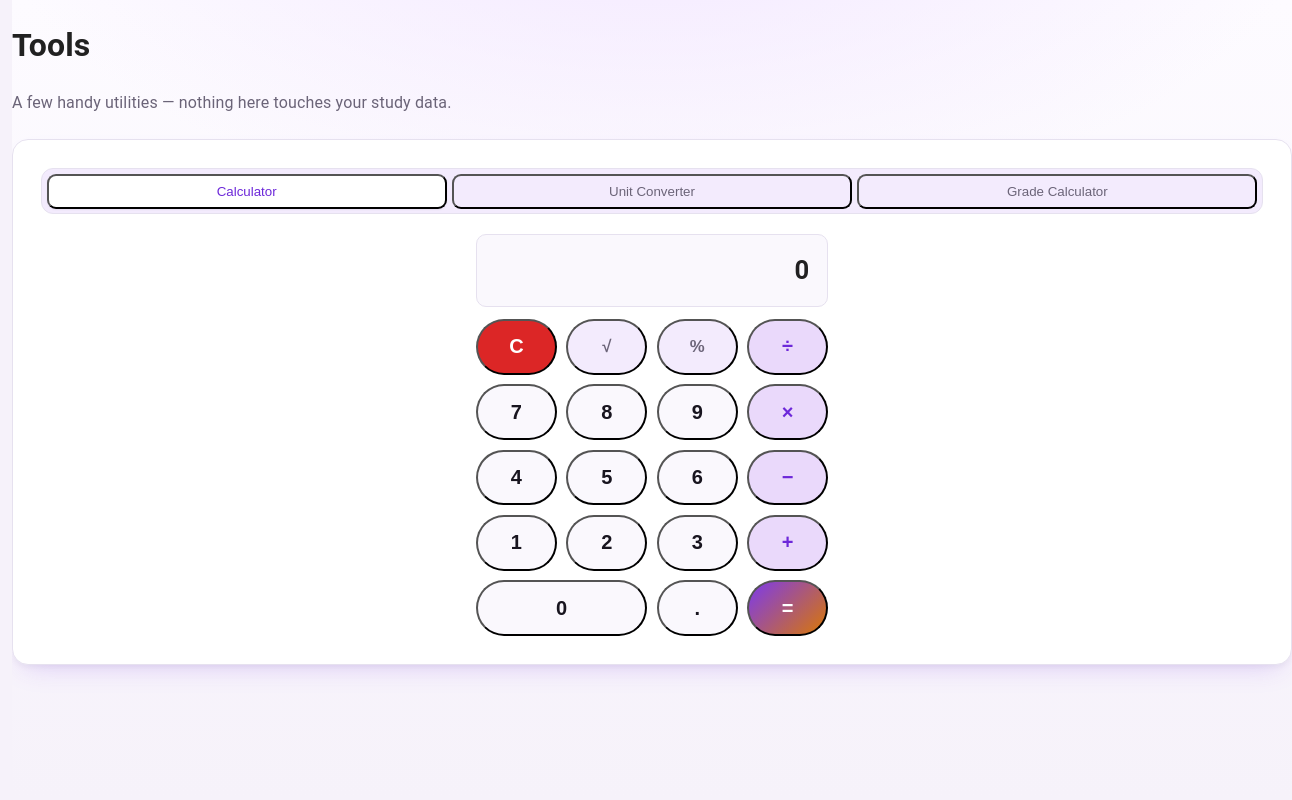
Test: ToolsPage › grade calculator: computes a weighted average across rows
The image size is (1292, 800).
Step 1. Click the tab "Grade Calculator" → (1057, 191), box [858,174,1257,209]
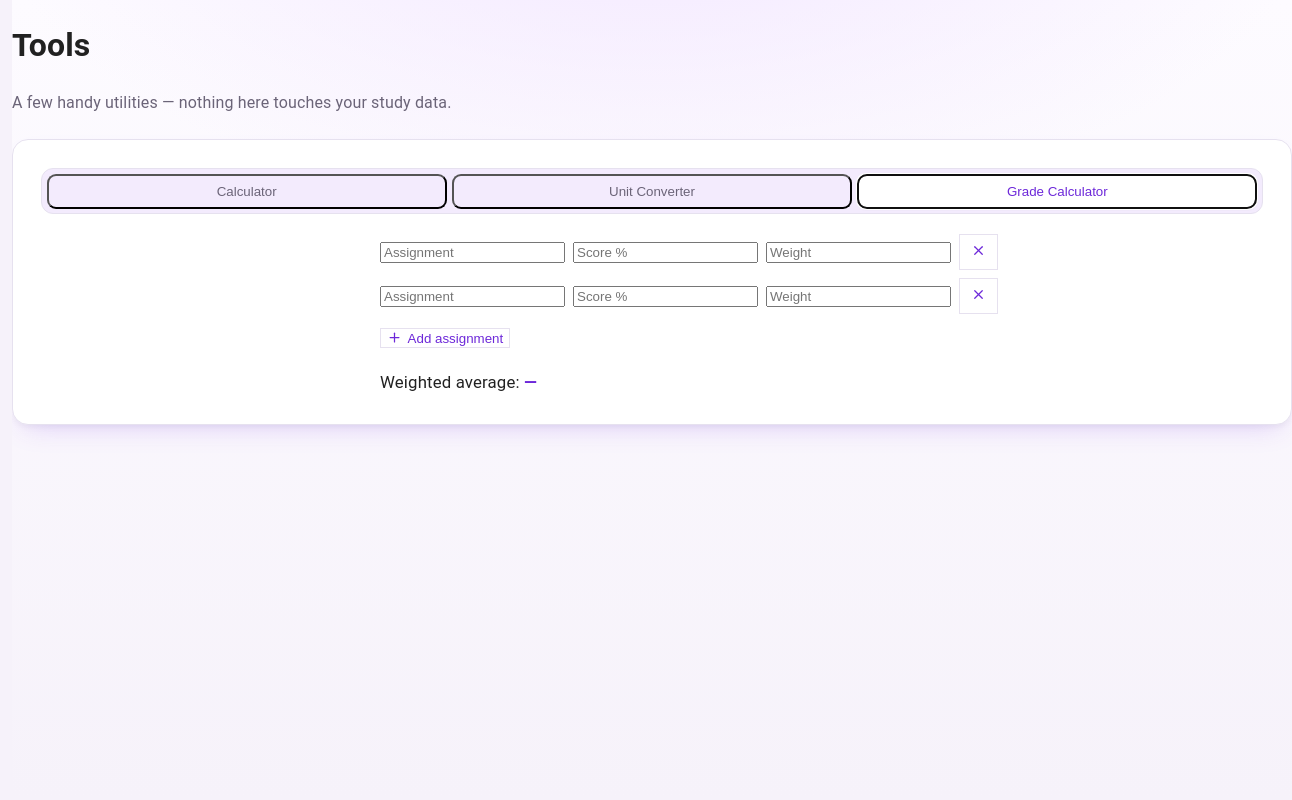
Step 2. Type "90" into the number field named "Score percent" → (666, 252), box [573,242,758,263]
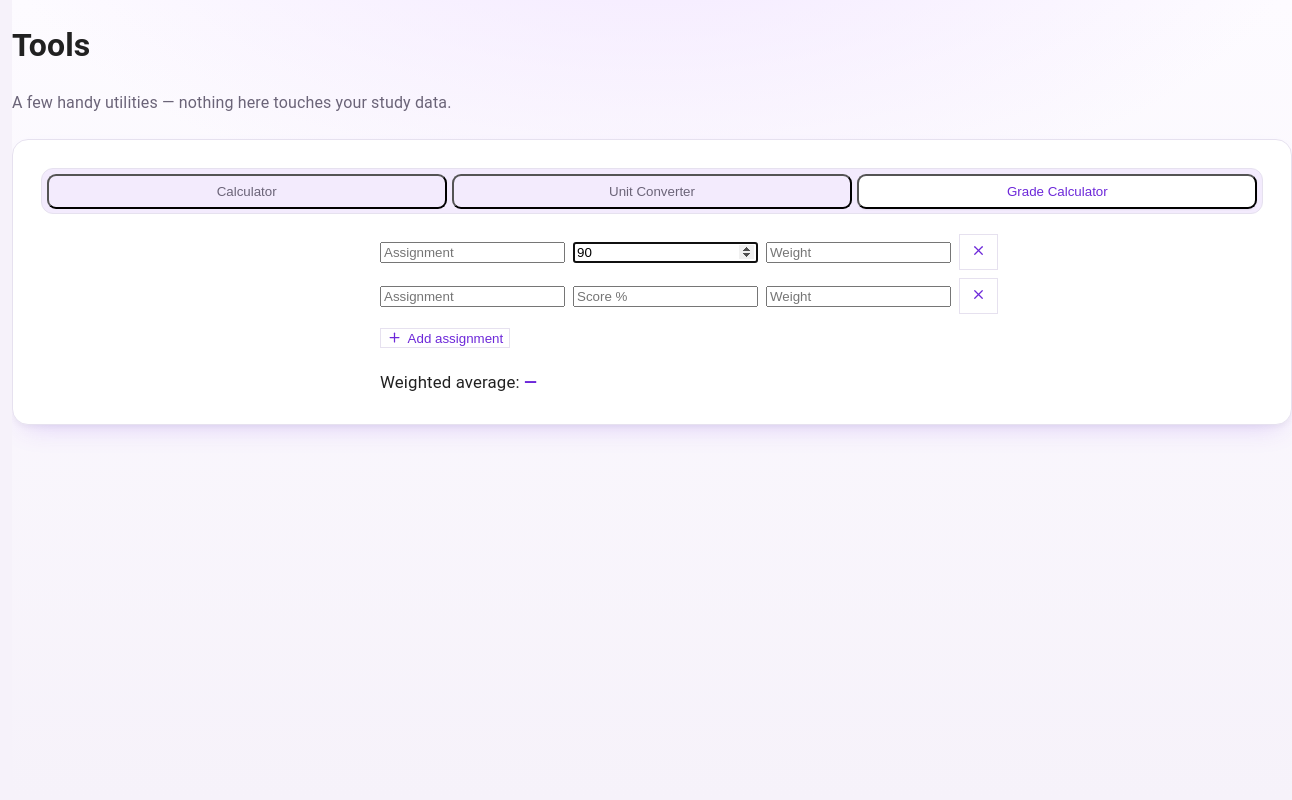
Step 3. Type "30" into the 1st number field labelled "Weight" → (858, 252), box [766,242,951,263]
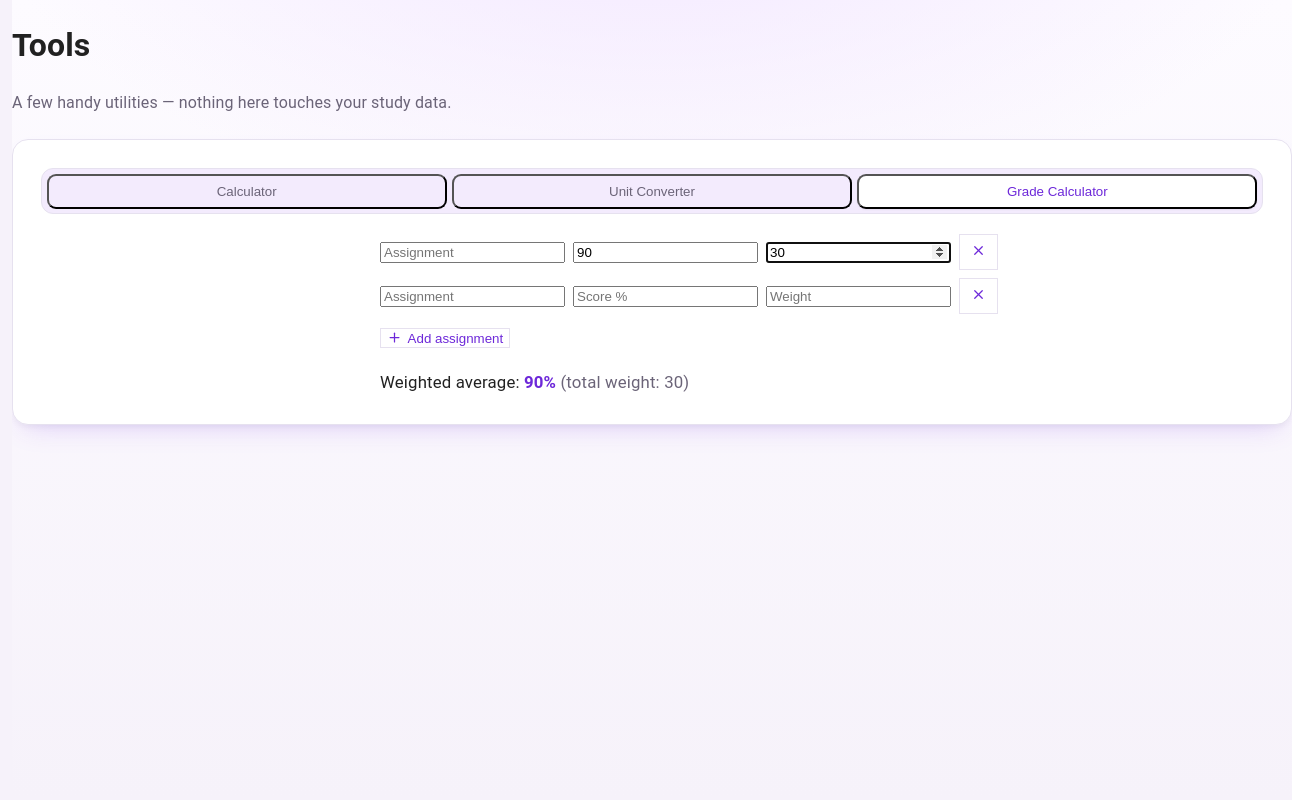
Step 4. Type "80" into the number field named "Score percent" → (666, 296), box [573,286,758,307]
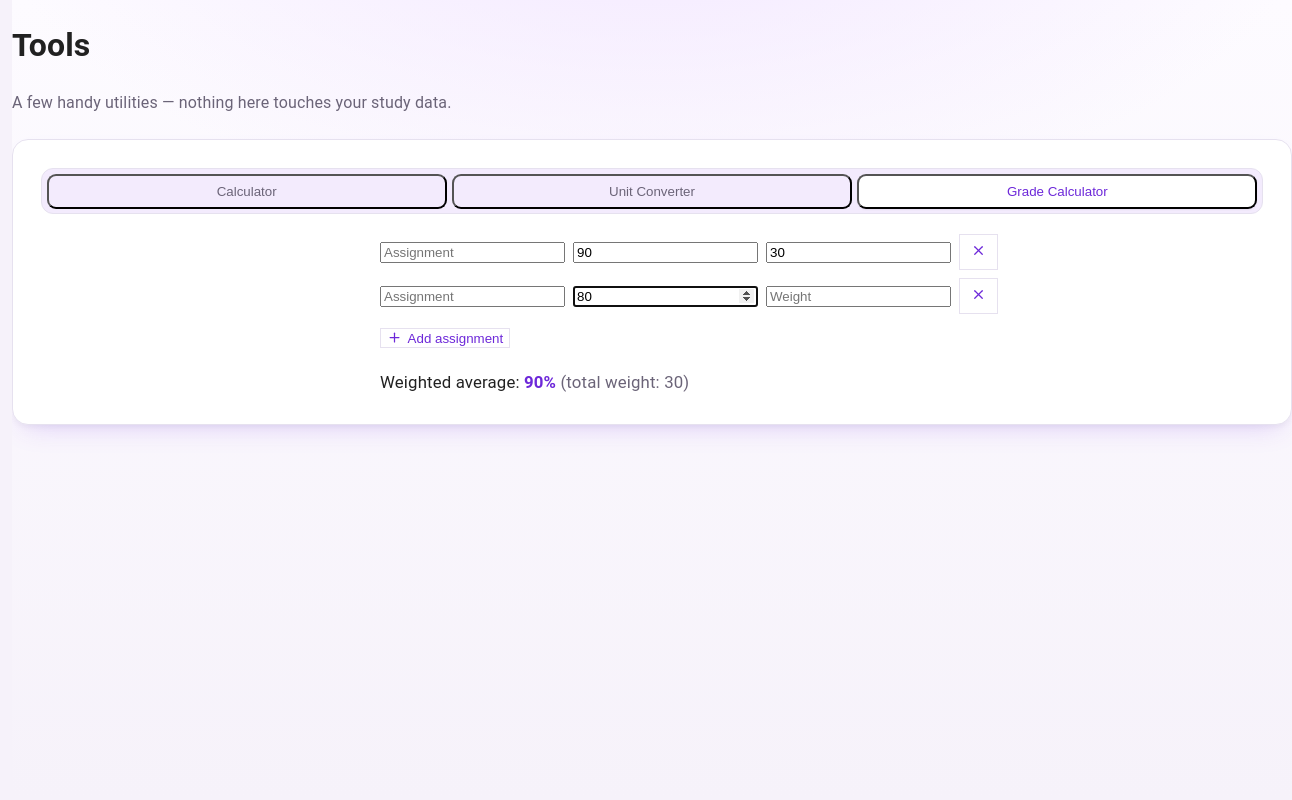
Step 5. Type "70" into the number field labelled "Weight" → (858, 296), box [766,286,951,307]
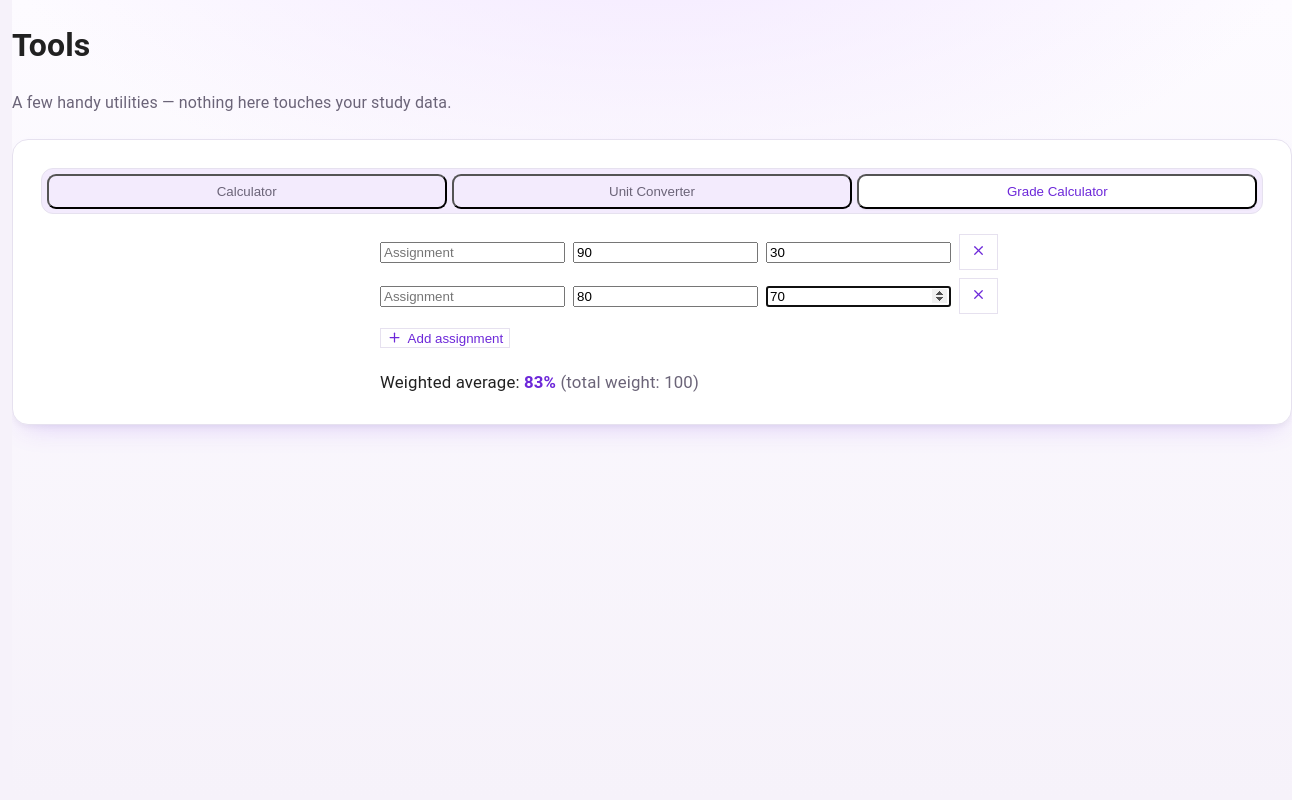
Check: the text "83%" is shown, box [524,372,556,392]
